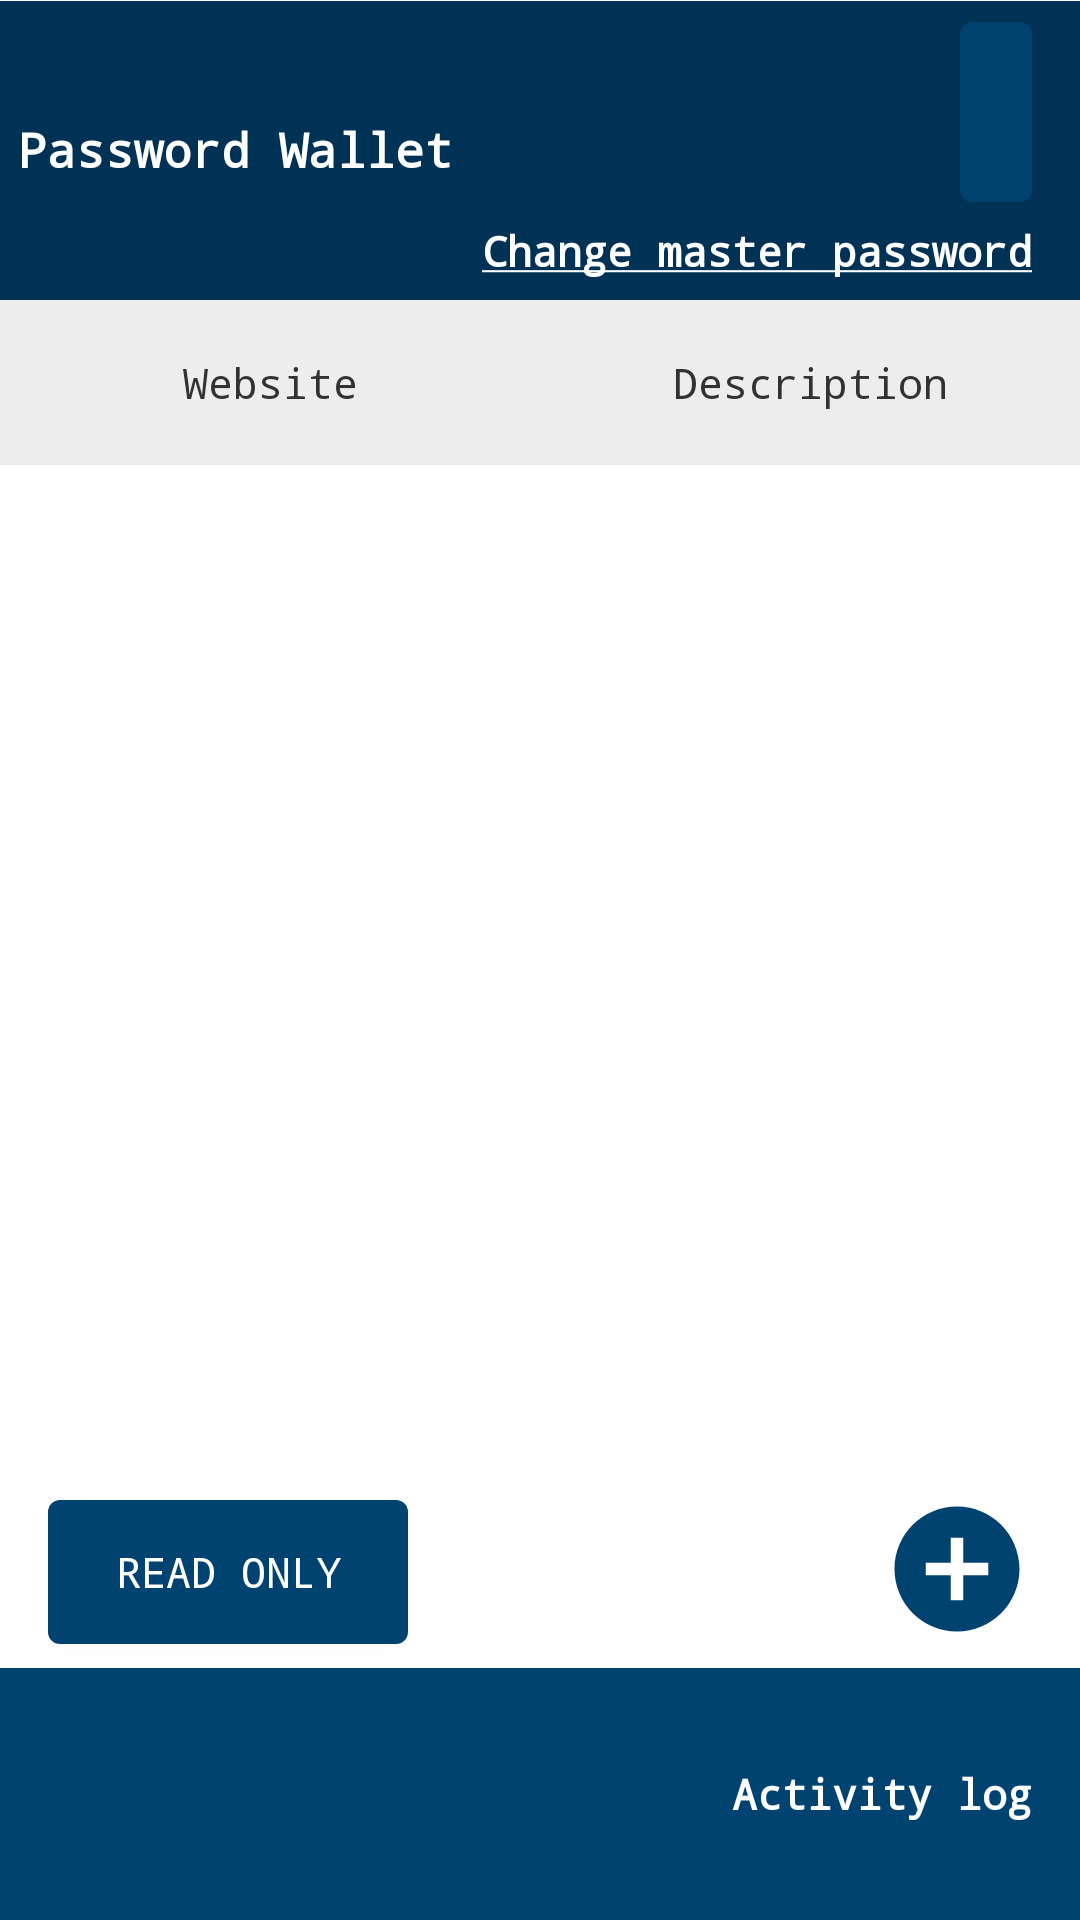

Screen size 1080 × 1920. Icon name, then its center in pixels as point (x, y):
add circle: point (957, 1569)
